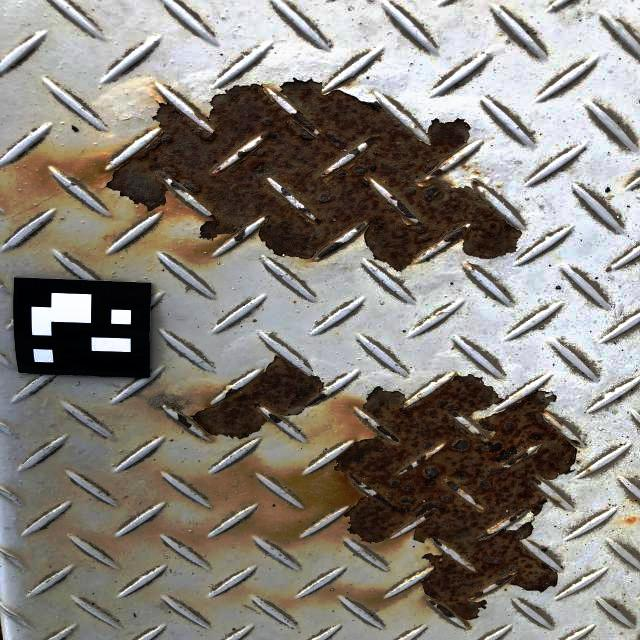Corrosion: (107, 81, 522, 272), (335, 375, 581, 622), (164, 356, 328, 442)
